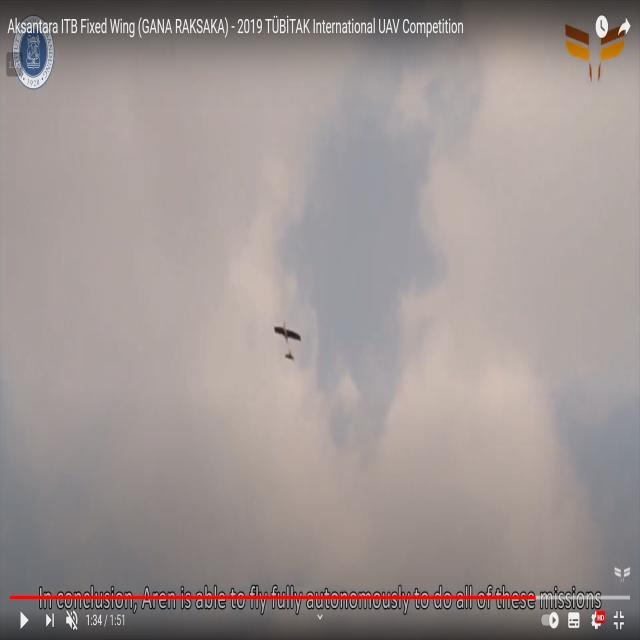iha: (273, 320, 301, 362)
